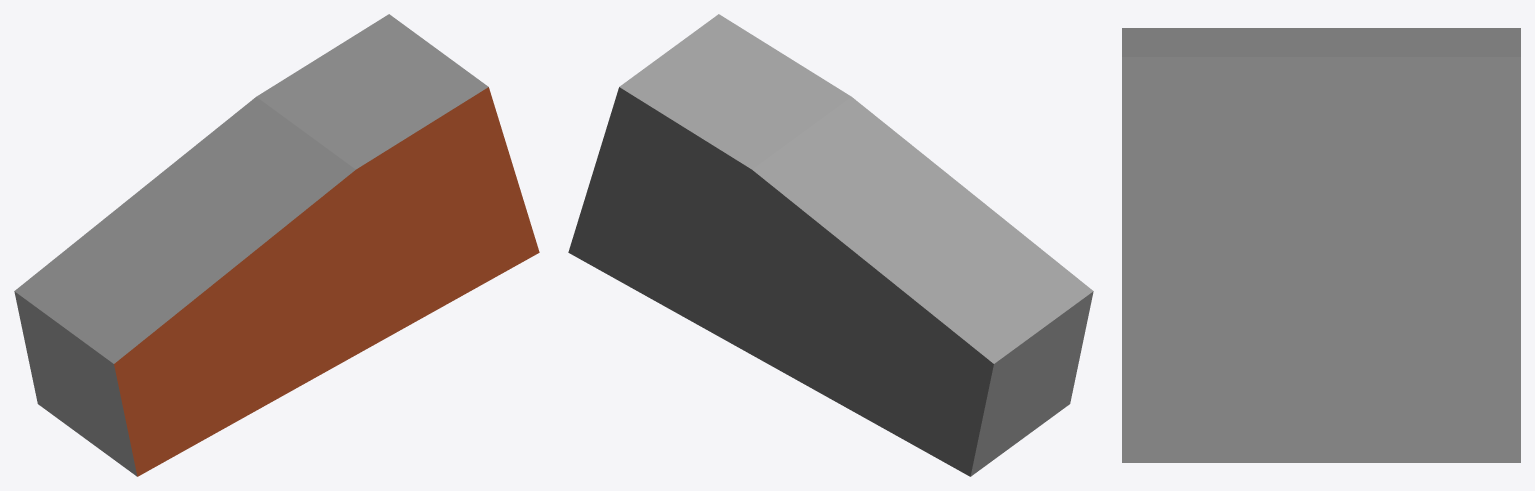
The model's file is construction_6322_assumed_A_Casa_h6m.obj.
The picture shows the model from 3 angles, left to right: view 1: azimuth 30°, elevation 25°; view 2: azimuth 150°, elevation 25°; view 3: azimuth 270°, elevation 25°; orthographic projection. The views are drawn at different scales.
Parts seen in each view (by area): view 1: construction_6322_assumed_A_Casa; view 2: construction_6322_assumed_A_Casa; view 3: construction_6322_assumed_A_Casa.
Part boxes in pixels (left/top/right/bottom): construction_6322_assumed_A_Casa: left=14, top=14, right=539, bottom=476; construction_6322_assumed_A_Casa: left=568, top=14, right=1093, bottom=476; construction_6322_assumed_A_Casa: left=1122, top=28, right=1520, bottom=462.
Bounding box in the file's own units: 14.79 × 10.11 × 6.
